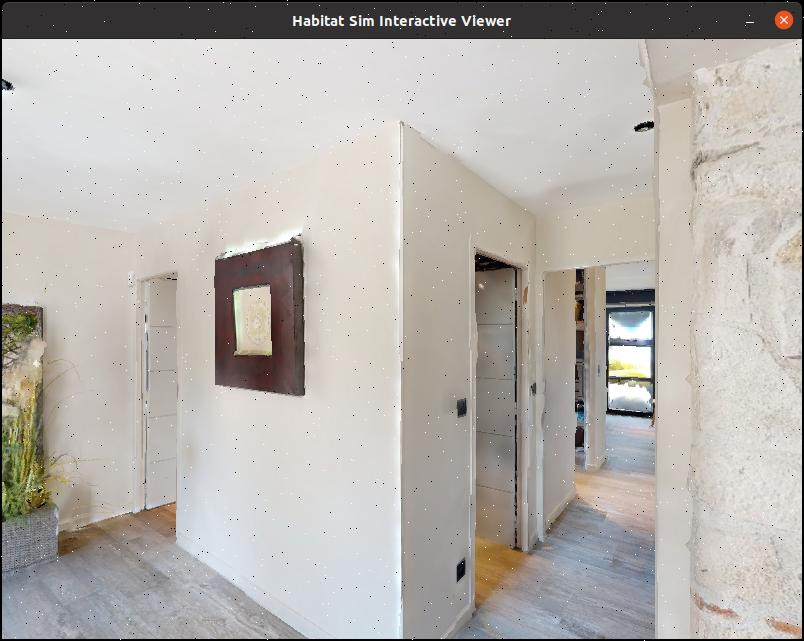door-frame: (371, 125, 701, 641), (115, 267, 200, 558)
